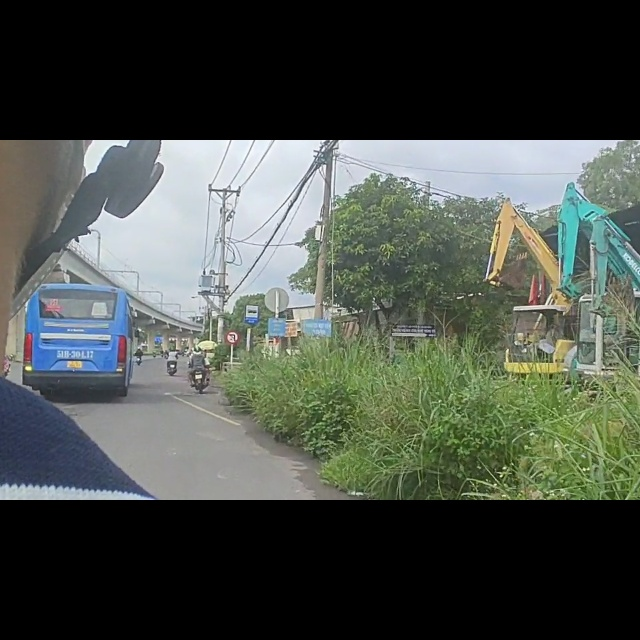bien_cam: (245, 292, 260, 328), (224, 339, 241, 364)
